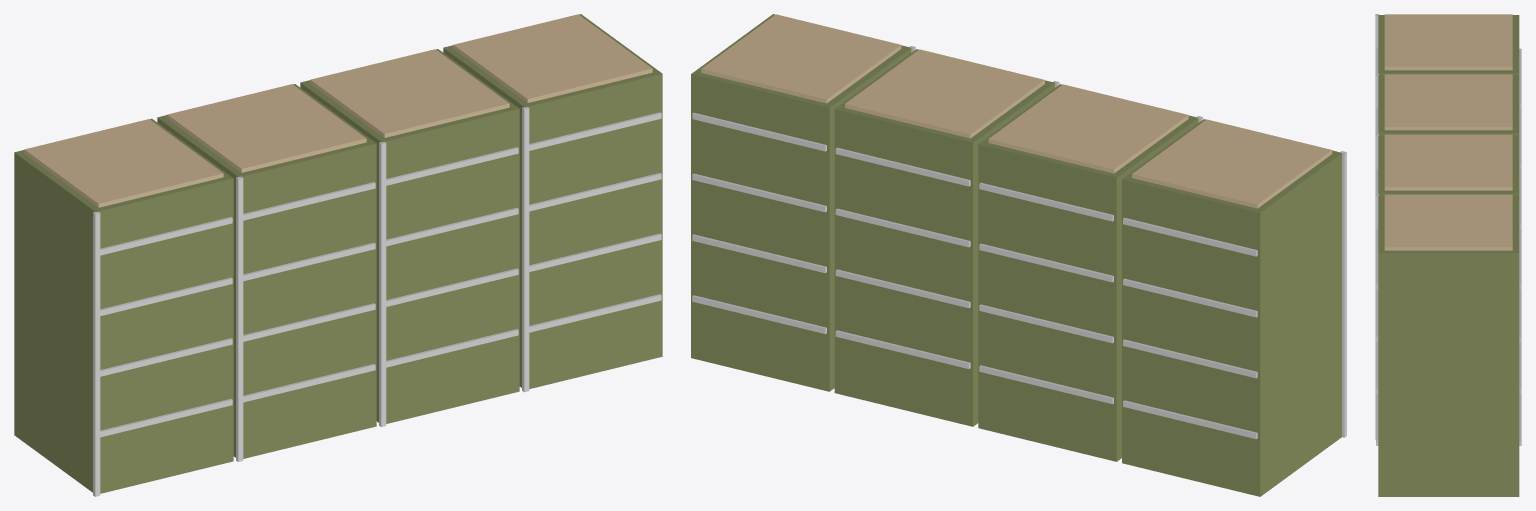
File: SM_HescoCorto4_v0_MallaLimpia_e0_Sano_LOD0.fbx
3 renders of one model, left to right at view 1: azimuth 30°, elevation 25°; view 2: azimuth 150°, elevation 25°; view 3: azimuth 270°, elevation 25°, orthographic. The views are drawn at different scales.
Visible parts, largest first — view 1: SM_hesco_piezas_v100_LOD0; view 2: SM_hesco_piezas_v100_LOD0; view 3: SM_hesco_piezas_v100_LOD0.
Part boxes in pixels (x1,y1,x2,y2): SM_hesco_piezas_v100_LOD0: (14, 14, 662, 496); SM_hesco_piezas_v100_LOD0: (691, 14, 1346, 496); SM_hesco_piezas_v100_LOD0: (1375, 14, 1521, 496).
Bounding box in the file's own units: 4.42 × 2.13 × 1.14.
